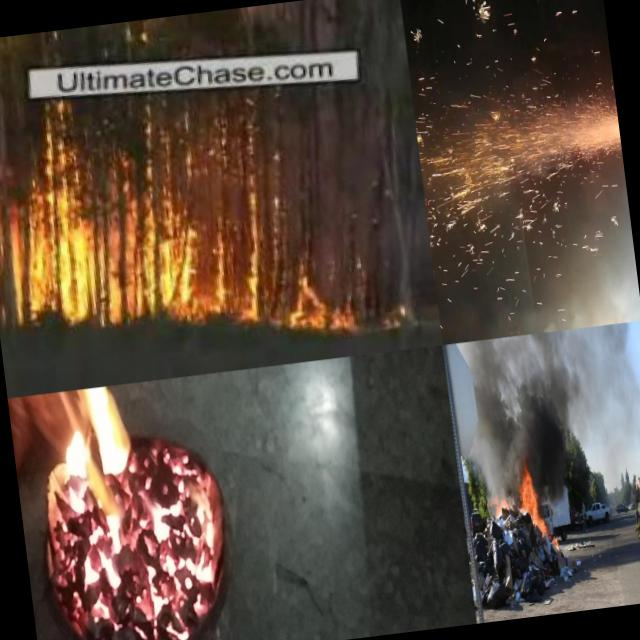fire: (0, 135, 204, 339), (131, 422, 238, 640), (35, 490, 157, 640), (8, 384, 136, 506), (250, 255, 344, 339), (518, 471, 547, 539), (494, 492, 514, 540), (551, 533, 562, 556)
smoke: (451, 331, 568, 492), (550, 321, 640, 437), (530, 467, 574, 515)
